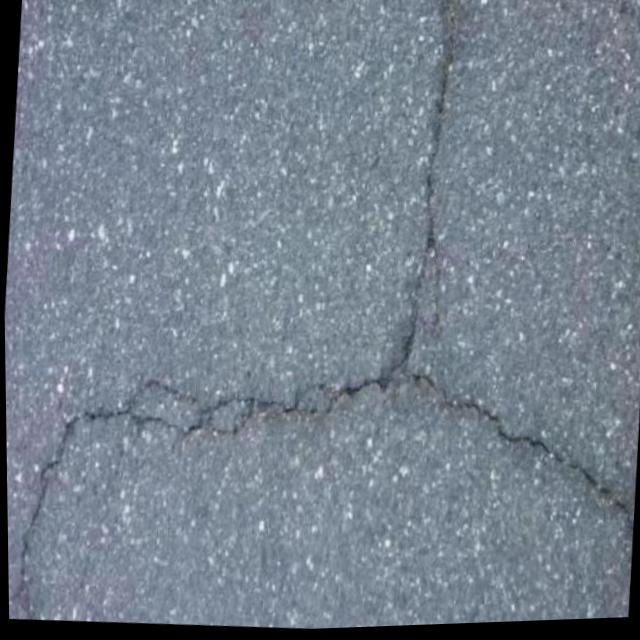Crack: (407, 373, 636, 533), (9, 413, 77, 597), (415, 0, 463, 243), (251, 370, 376, 431), (384, 244, 434, 381)
